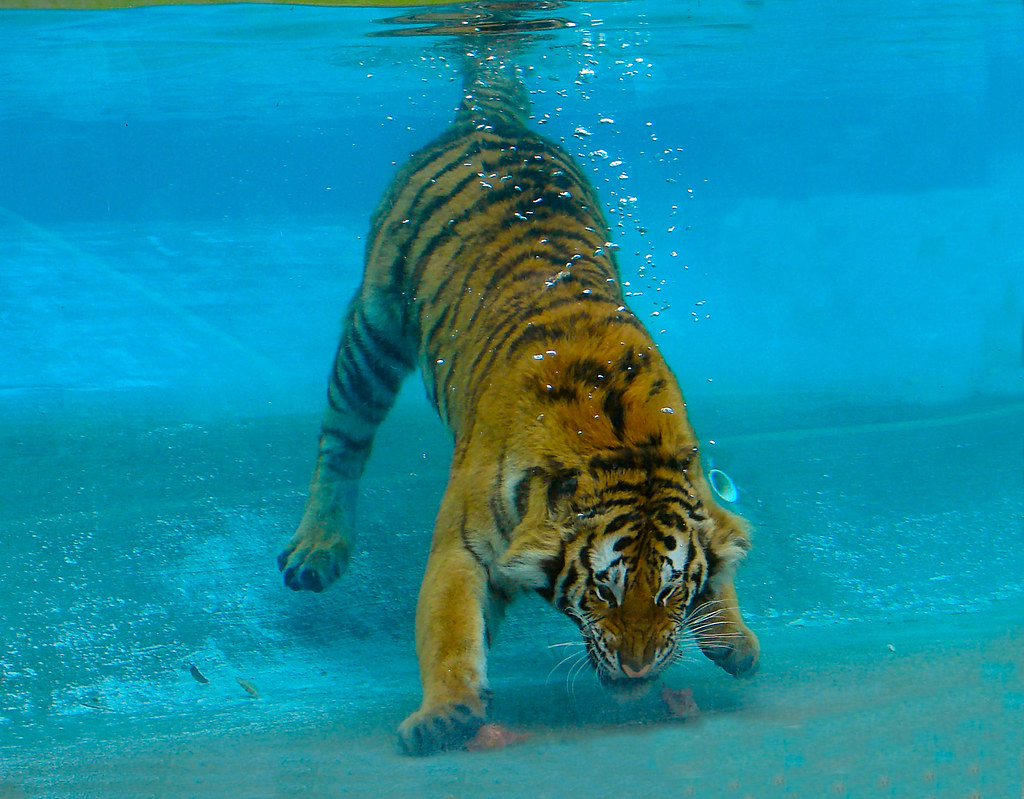cat: (236, 45, 779, 764)
